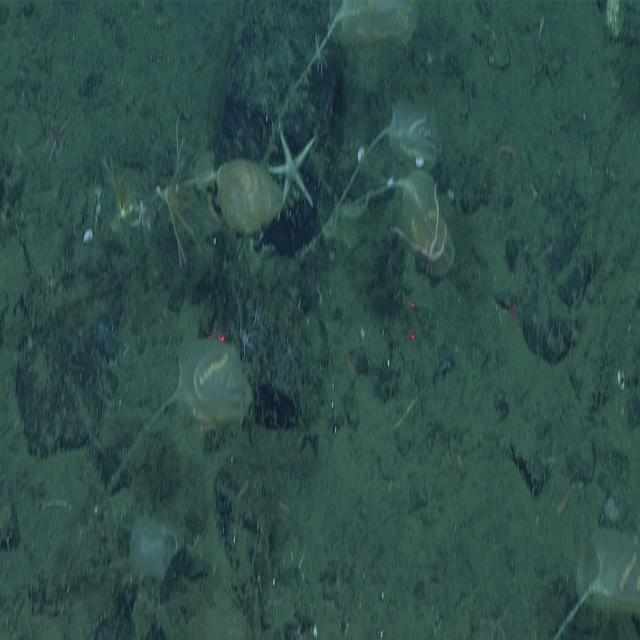Brittle Star: (387, 174, 449, 278), (42, 109, 74, 169), (478, 597, 514, 640), (130, 194, 151, 236)
